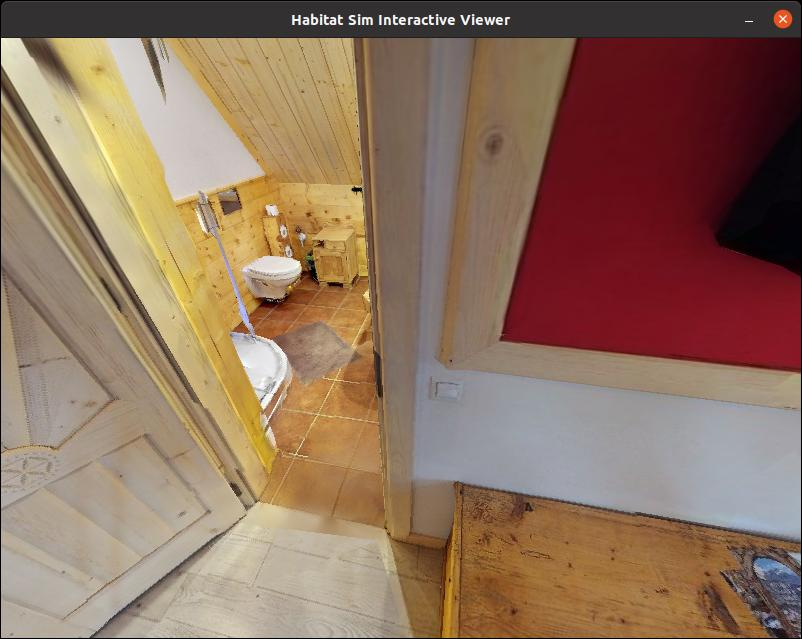door-frame: (0, 39, 431, 543)
toilet: (236, 249, 311, 314)
